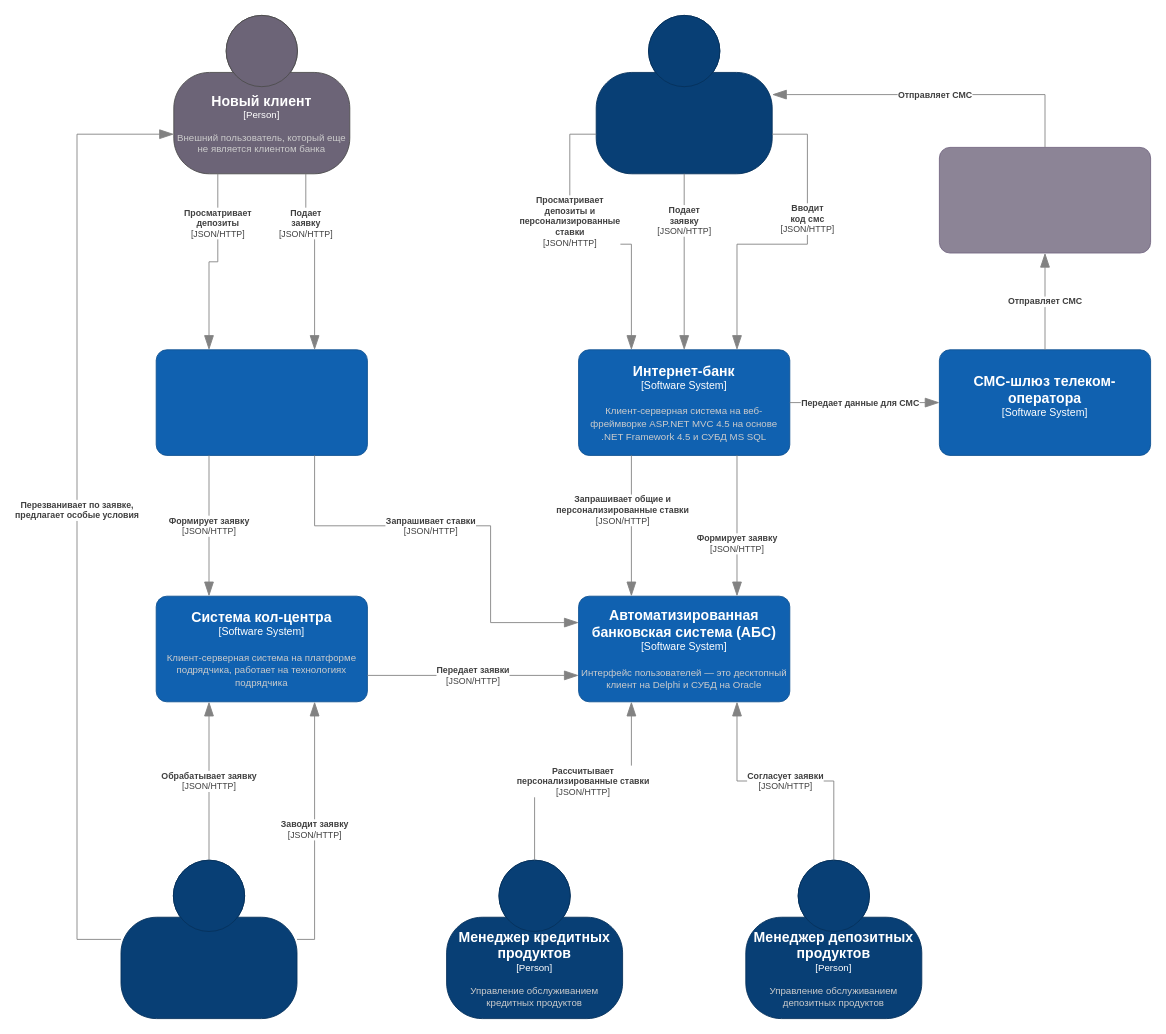
Some shapes in this 1166 by 1034 pixel diagram are drawn without their labels. Each missing label, with the centre of its shape:
Клиент [Person] Клиент банка: (683,94)
Сайт [Software System] Собственная разработка банка на PHP и React.js: (261,402)
Сотрудник кол-центра банка [Person] Кол-центр банка «Стандарт»: (208,939)
Телеком-оператор [Software System] Внешний оператор по отправке СМС: (1045,200)
